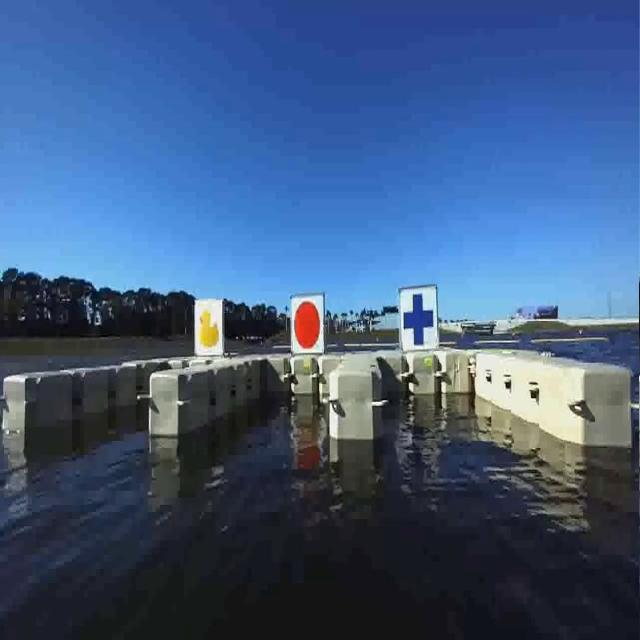blue-cross: (399, 289, 434, 349)
red-dot: (286, 289, 325, 347)
yellow-duck: (194, 301, 224, 358)
